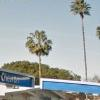Palm tree: (19, 19, 52, 79)
